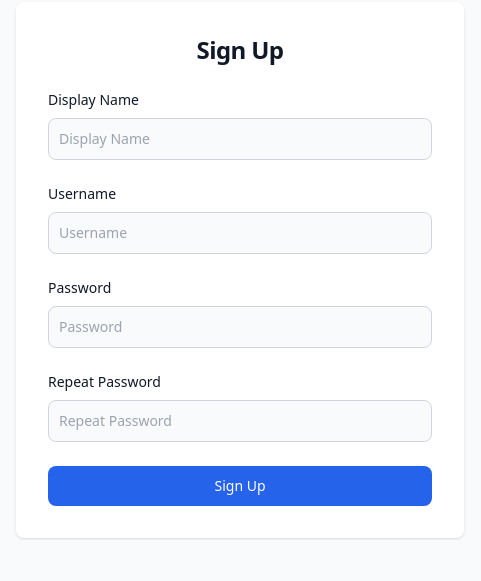
Scenario: UserSignupPage › Interactions › displays validation error for displayName when error is received for the field
The width and height of the screenshot is (481, 581).
Type "my-display-name" into the field with placeholder "Display Name" at point(240, 139), box [48,118,432,160]
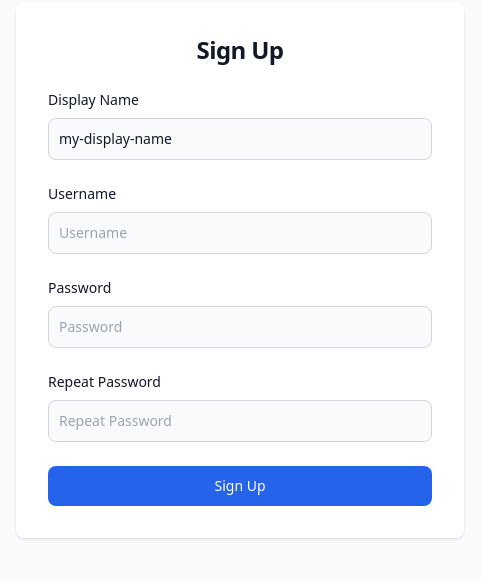
Type "my-user-name" into the field with placeholder "Username" at point(240, 233), box [48,212,432,254]
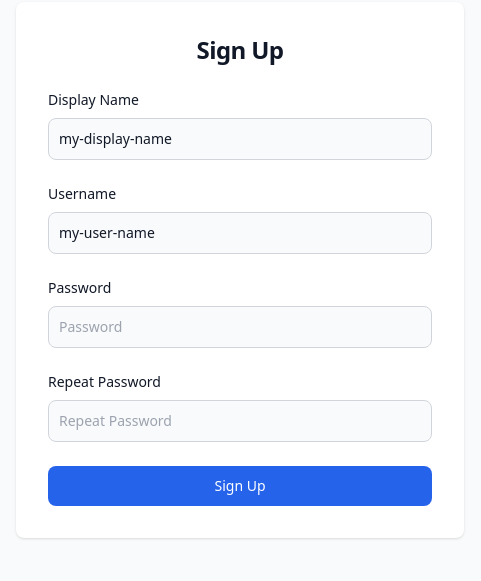
Type "P4ssword" into the password field with placeholder "Password" at point(240, 327), box [48,306,432,348]
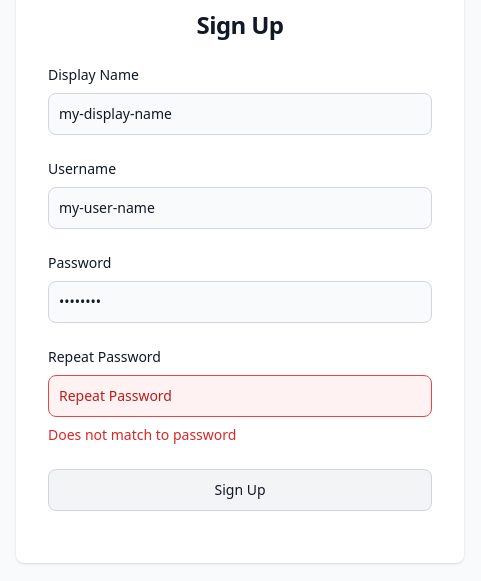
Type "P4ssword" into the password field with placeholder "Repeat Password" at point(240, 396), box [48,375,432,417]
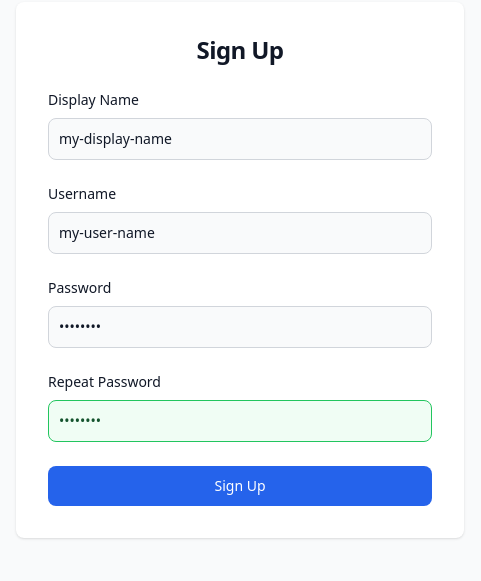
Click the button "Sign Up" at point(240, 486), box [48,466,432,506]
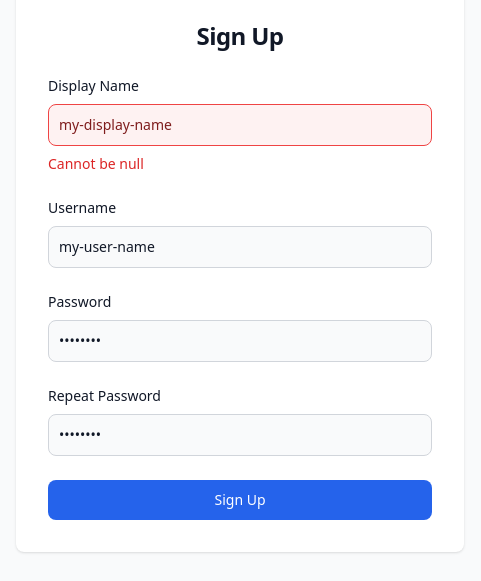
Result: the text "Cannot be null" is shown at [48,154,144,173]
